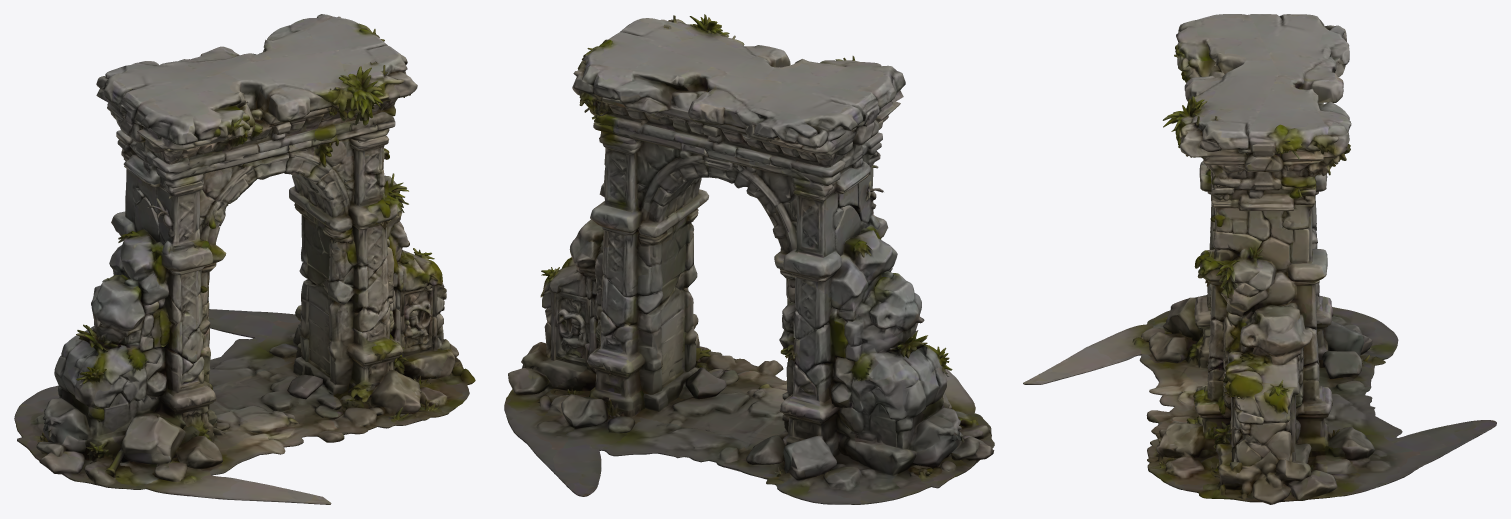
The model's file is ancient-stone-gate.glb.
3 renders of one model, left to right at view 1: azimuth 30°, elevation 25°; view 2: azimuth 150°, elevation 25°; view 3: azimuth 270°, elevation 25°, orthographic. The views are drawn at different scales.
Visible parts, largest first — view 1: tripo_node_7554d447_tripo_mat_7554d447_0_21; view 2: tripo_node_7554d447_tripo_mat_7554d447_0_21; view 3: tripo_node_7554d447_tripo_mat_7554d447_0_21.
Part boxes in pixels (left/top/right/bottom): tripo_node_7554d447_tripo_mat_7554d447_0_21: left=14, top=14, right=475, bottom=504; tripo_node_7554d447_tripo_mat_7554d447_0_21: left=504, top=14, right=994, bottom=504; tripo_node_7554d447_tripo_mat_7554d447_0_21: left=1023, top=14, right=1496, bottom=504.
Size of the model in its own units: 0.9794 by 0.7437 by 0.934.
1 material, 1 textured.
